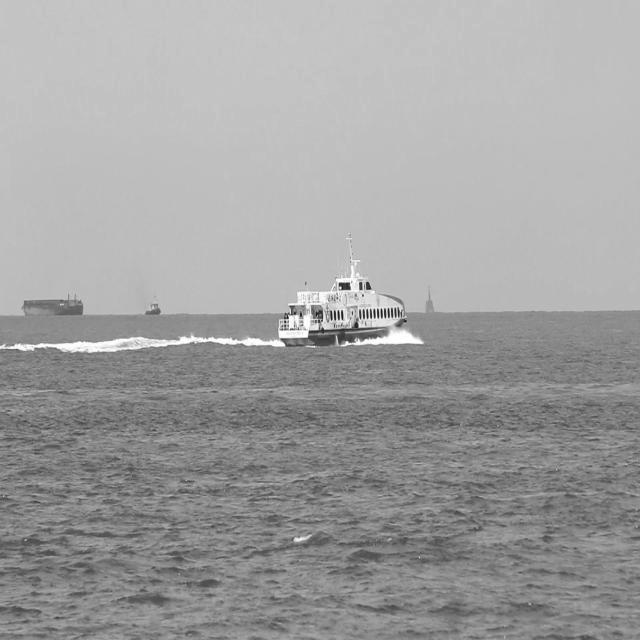ship: (273, 224, 411, 350), (21, 289, 87, 319), (144, 290, 166, 318)
